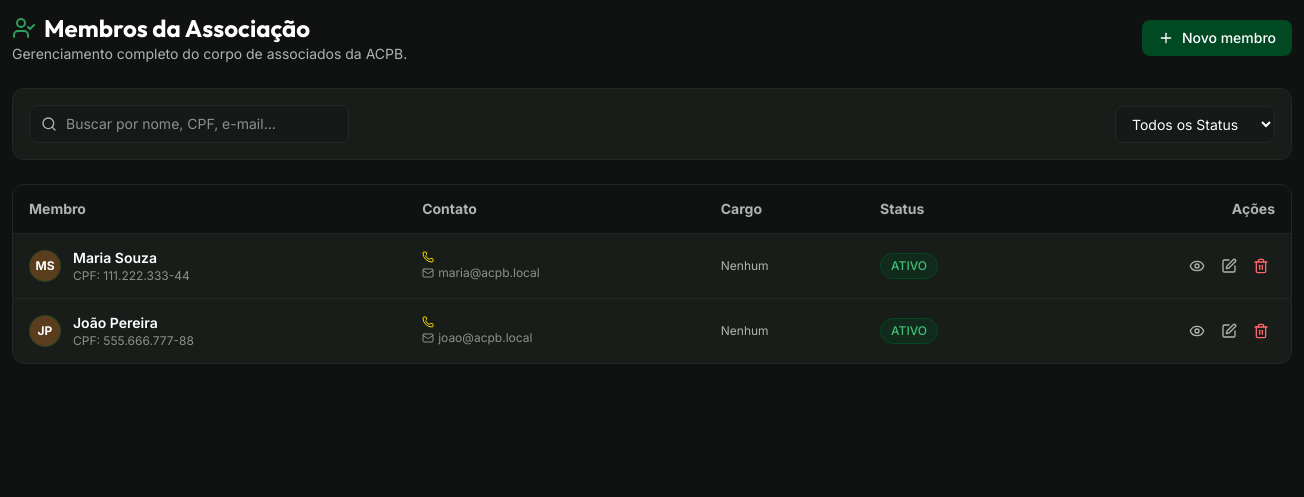
Test: MembersList — busca › não deixa passar todo mundo quando o termo não é um CPF
The image size is (1304, 497).
Expected: the text "Maria Souza" is shown, [73, 249, 157, 266]
Type "zzzznaoexiste" into the field with placeholder "Buscar por nome, CPF, e-mail...". click: (189, 124)
box: [29, 105, 349, 143]
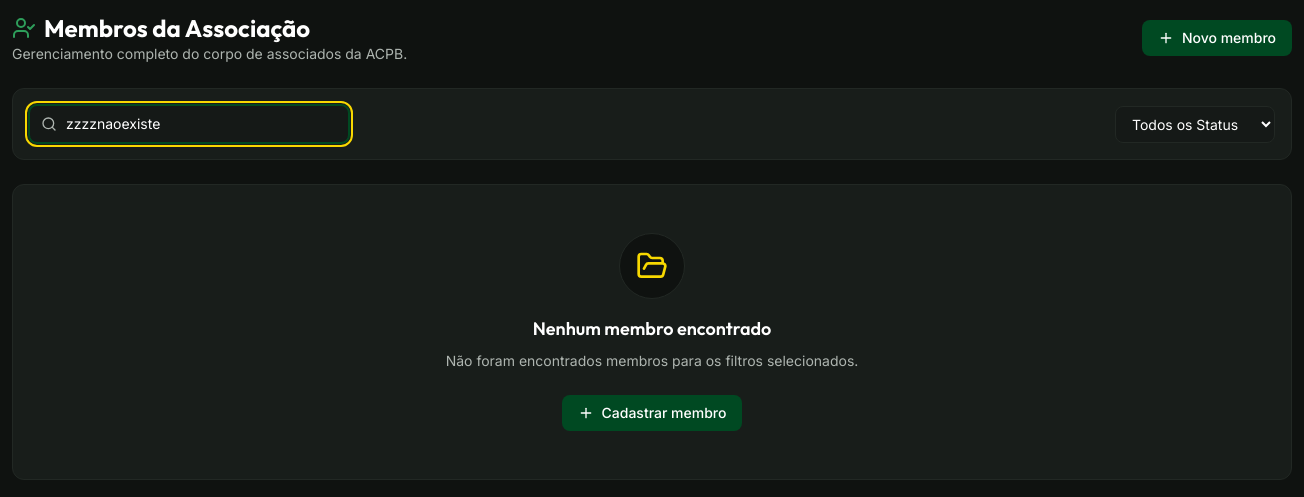
Result: the text "Maria Souza" is gone
Result: the text "João Pereira" is gone
